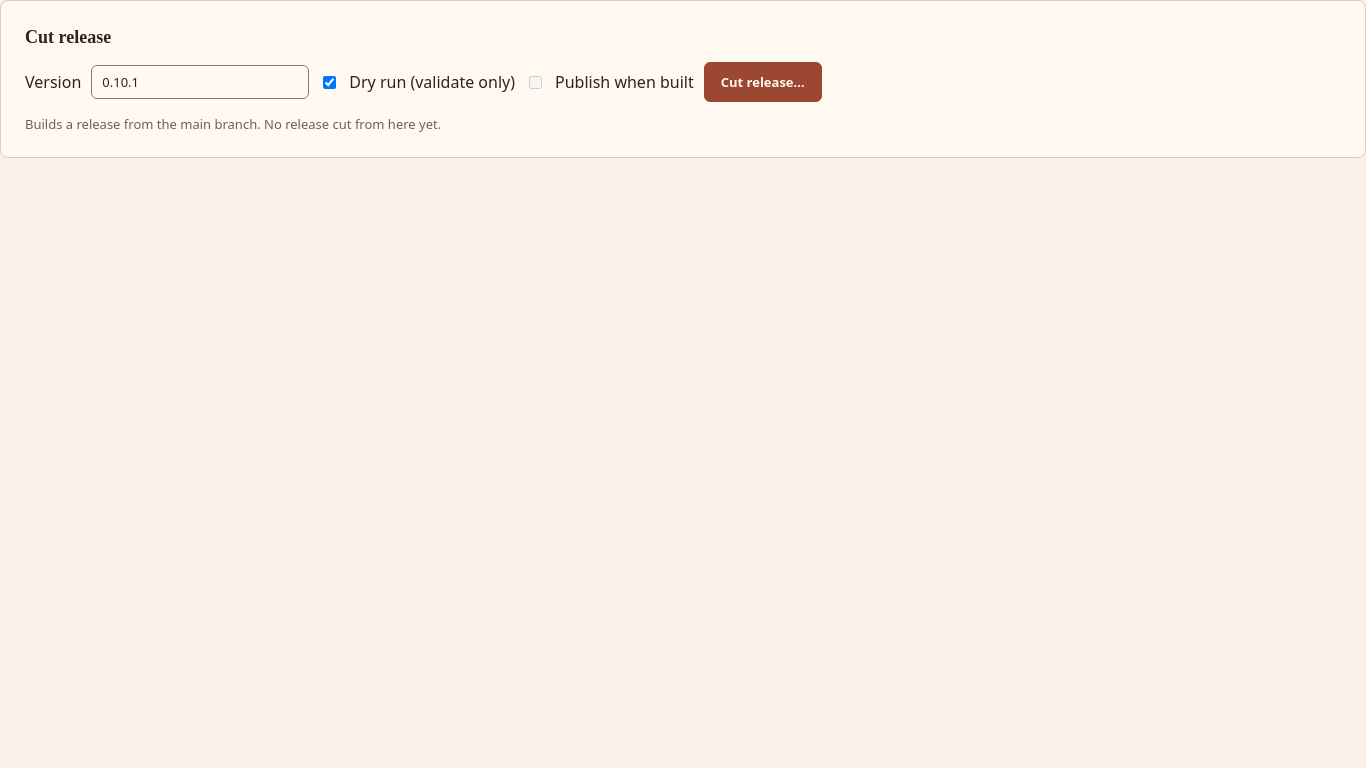
Test: Cut release › Confirm sends the exact dry-run body and shows where to follow the run
Replace the text in the field with test id "cut-version" with "v0.10.0" at (200, 82), box x1=91 y1=65 x2=309 y2=99
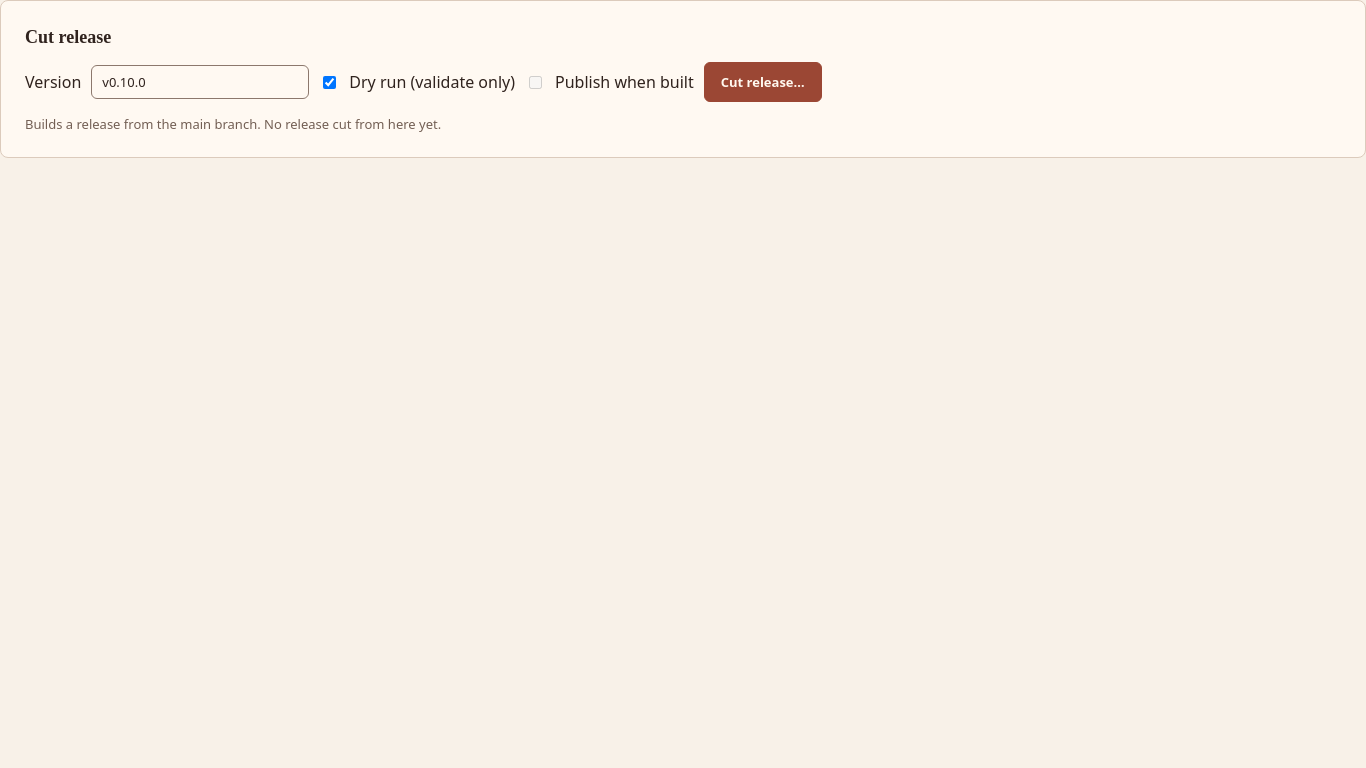
Click the button with test id "cut-release-open" at (763, 82), box x1=704 y1=62 x2=822 y2=102
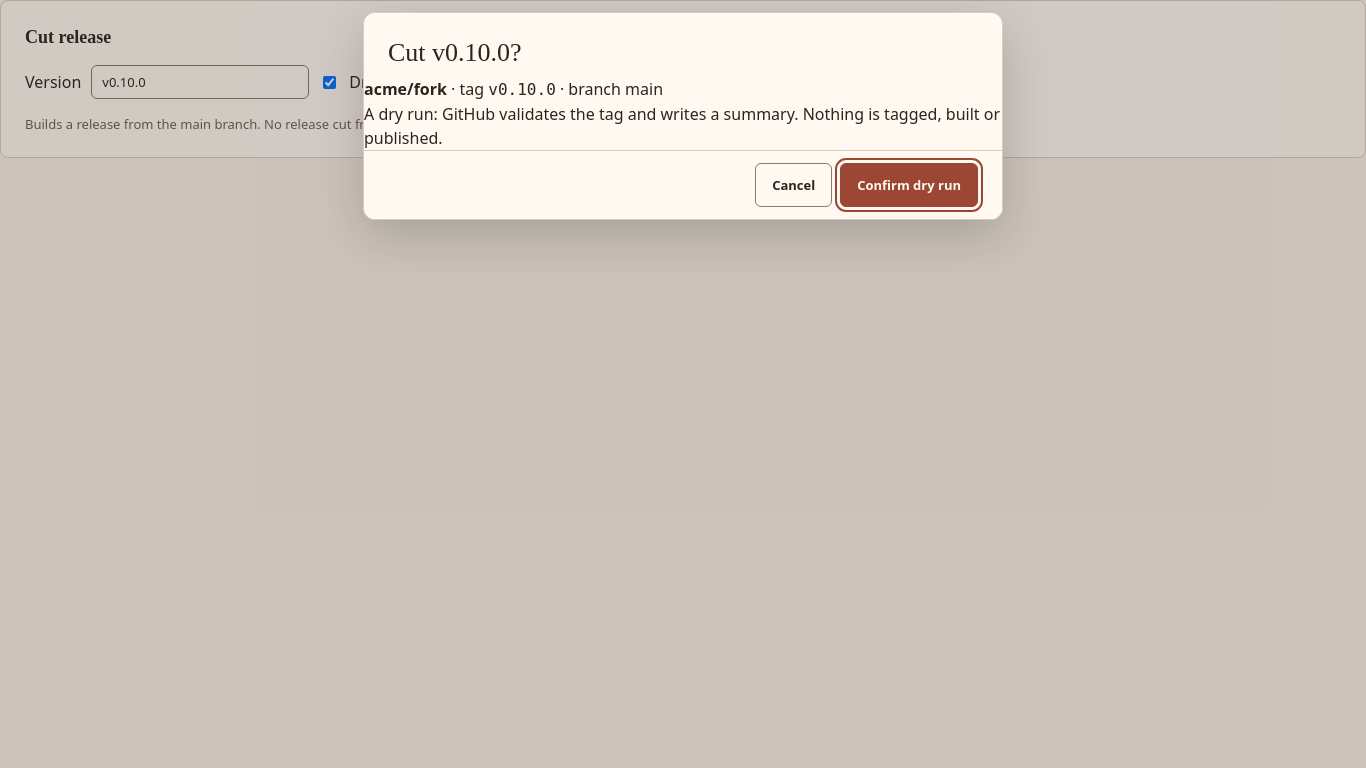
Expected: the dialog with test id "cut-confirm" shows "Nothing is tagged, built or published", x1=364 y1=103 x2=1000 y2=149
Click the button with test id "cut-confirm-go" at (909, 185), box x1=840 y1=163 x2=978 y2=207
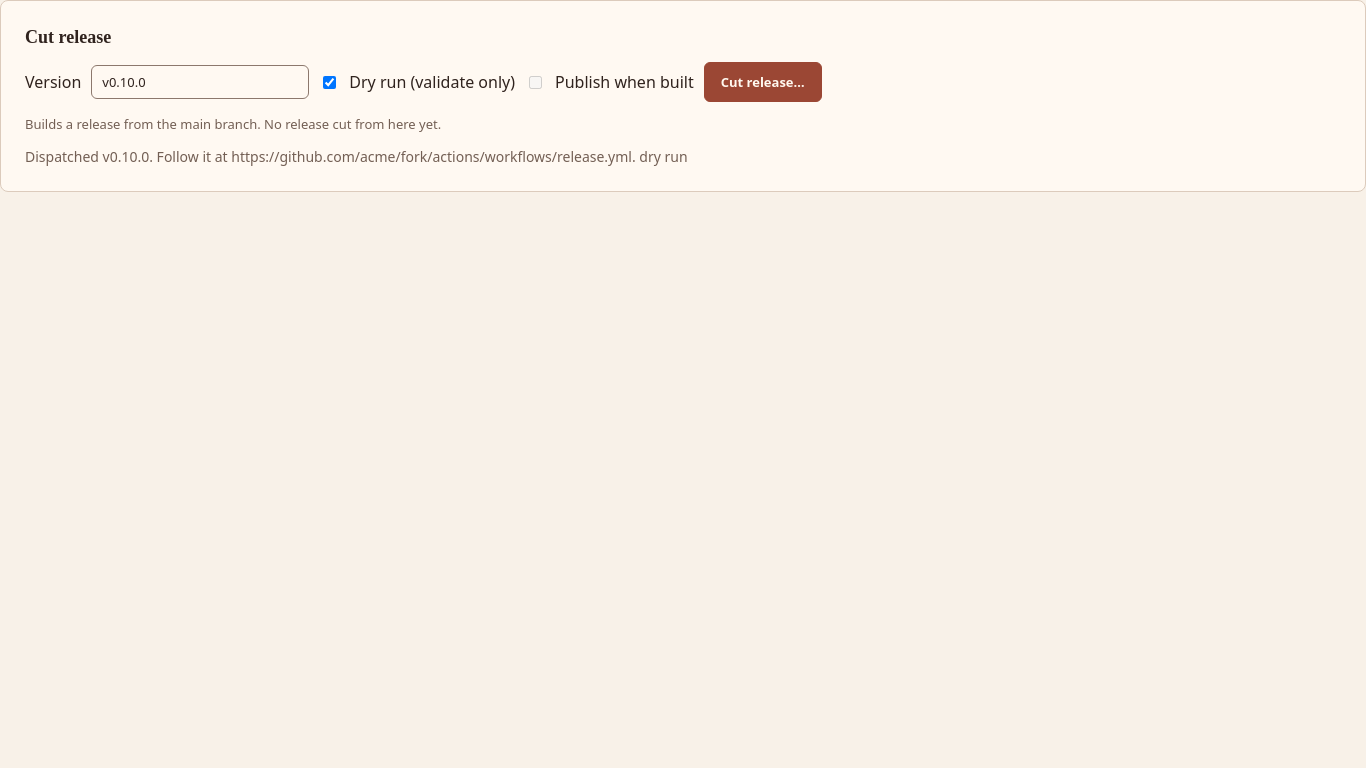
Expected: the message with test id "cut-release-done" shows "actions/workflows/release.yml", x1=25 y1=147 x2=688 y2=166
